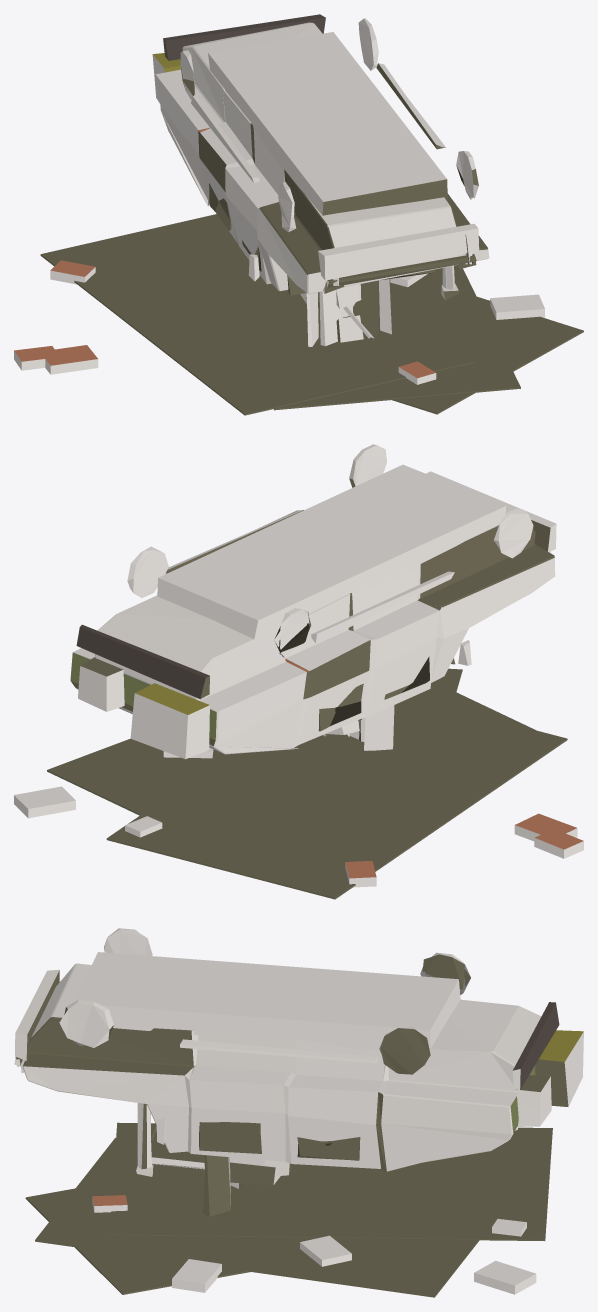
File: SM_RestosVamtac_v4_LOD0.fbx
3 renders of one model, top to bottom at view 1: azimuth 30°, elevation 25°; view 2: azimuth 150°, elevation 25°; view 3: azimuth 270°, elevation 25°, orthographic. The views are drawn at different scales.
Visible parts, largest first — view 1: SM_bloques.restos_vamtac_v4_LOD0; view 2: SM_bloques.restos_vamtac_v4_LOD0; view 3: SM_bloques.restos_vamtac_v4_LOD0.
Part boxes in pixels (x1,y1,x2,y2): SM_bloques.restos_vamtac_v4_LOD0: (14,14,583,415); SM_bloques.restos_vamtac_v4_LOD0: (14,444,583,899); SM_bloques.restos_vamtac_v4_LOD0: (14,928,583,1297).
Size of the model in its own units: 6.56 by 3.05 by 6.83.
